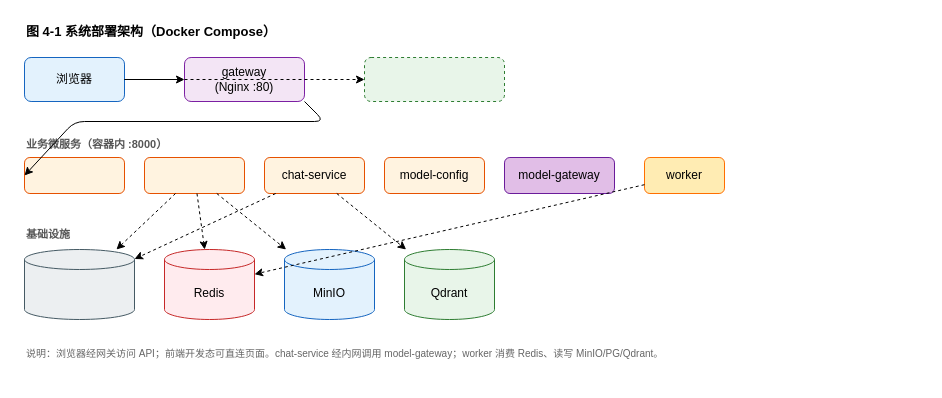
The diagram is 942 pixels wide and 398 high, and some of its shapes have lost their labels. The box of each missing label's shape, as (x1, y1, x2, y2) in pixels:
auth-service: (24, 156, 124, 194)
frontend (Vite :5173 开发态): (364, 56, 504, 102)
kb-service: (144, 156, 244, 194)
PostgreSQL: (24, 248, 134, 320)
